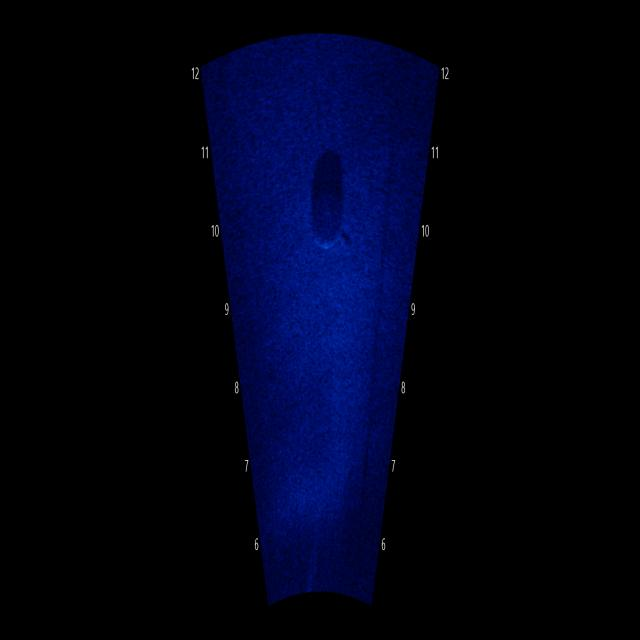circle: (303, 156, 357, 272)
